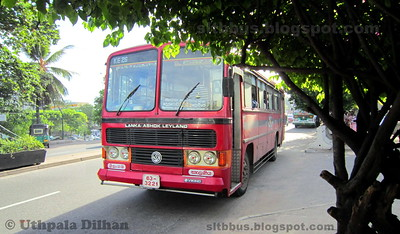bus: (97, 37, 287, 203), (291, 96, 321, 129)
threewheel: (28, 122, 51, 149)
